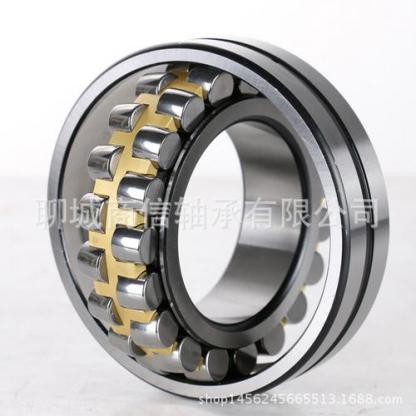FOD: (42, 34, 391, 407)
